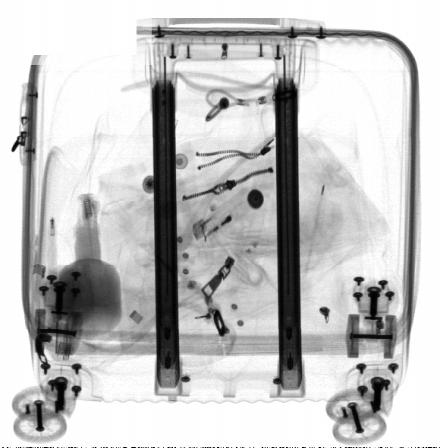Lighter: (192, 186, 254, 246)
